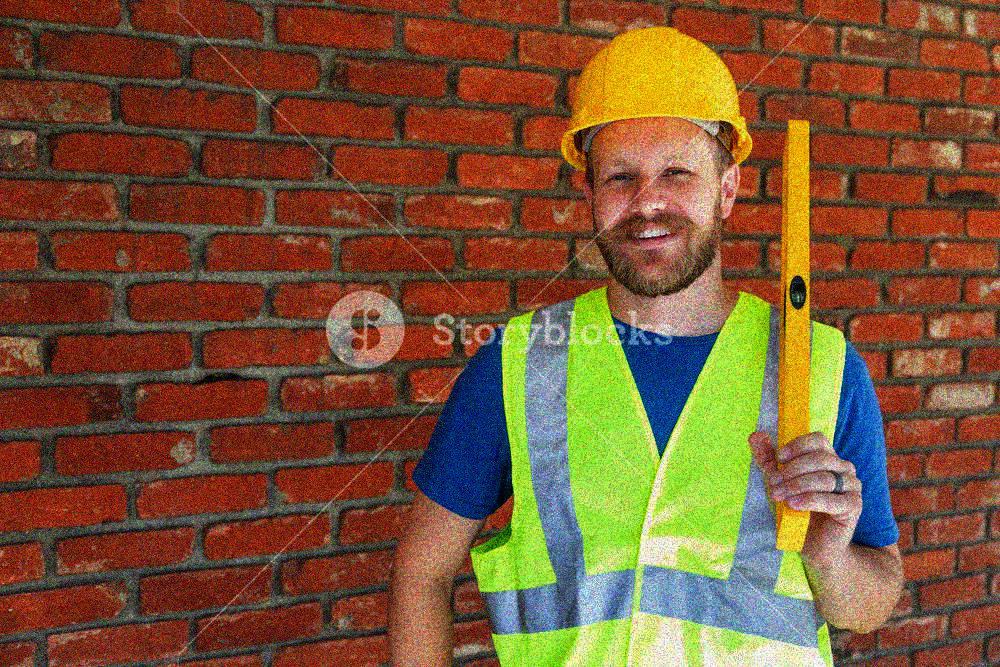helmet: (553, 26, 757, 293)
